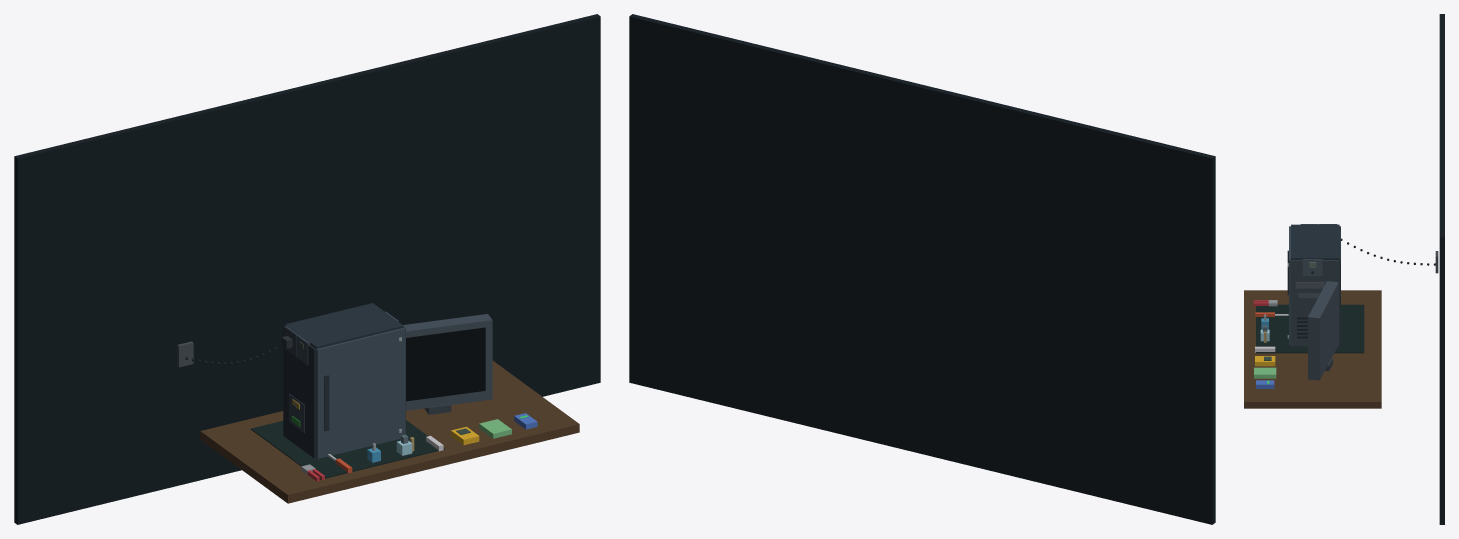
File: escena_completa.obj
3 views of the same model, side by side, from view 1: azimuth 30°, elevation 25°; view 2: azimuth 150°, elevation 25°; view 3: azimuth 270°, elevation 25° (orthographic). The views are drawn at different scales.
Visible parts, largest first — view 1: sala_pared.001, escritorio.001, tapa_lateral.001, monitor_pantalla.001, alfombrilla.001, gabinete_chasis.004, gabinete_chasis.002, monitor.001; view 2: sala_pared.001; view 3: escritorio.001, sala_pared.001, alfombrilla.001, monitor.001, gabinete_chasis.003, gabinete_chasis.004, panel_frontal.001, herr_respaldo.001.
Part boxes in pixels (x1,y1,x2,y2): sala_pared.001: [14, 14, 600, 524]; escritorio.001: [200, 361, 579, 503]; tapa_lateral.001: [316, 328, 404, 458]; monitor_pantalla.001: [406, 327, 485, 401]; alfombrilla.001: [250, 420, 444, 479]; gabinete_chasis.004: [285, 303, 403, 348]; gabinete_chasis.002: [283, 327, 316, 458]; monitor.001: [403, 314, 492, 410]; sala_pared.001: [629, 14, 1215, 524]; escritorio.001: [1244, 290, 1381, 408]; sala_pared.001: [1439, 14, 1444, 524]; alfombrilla.001: [1256, 304, 1364, 353]; monitor.001: [1308, 281, 1338, 380]; gabinete_chasis.003: [1291, 260, 1339, 346]; gabinete_chasis.004: [1291, 224, 1339, 259]; panel_frontal.001: [1302, 259, 1322, 275]; herr_respaldo.001: [1254, 367, 1276, 378].
Size of the model in its own units: 2 by 1.2 by 0.76.
